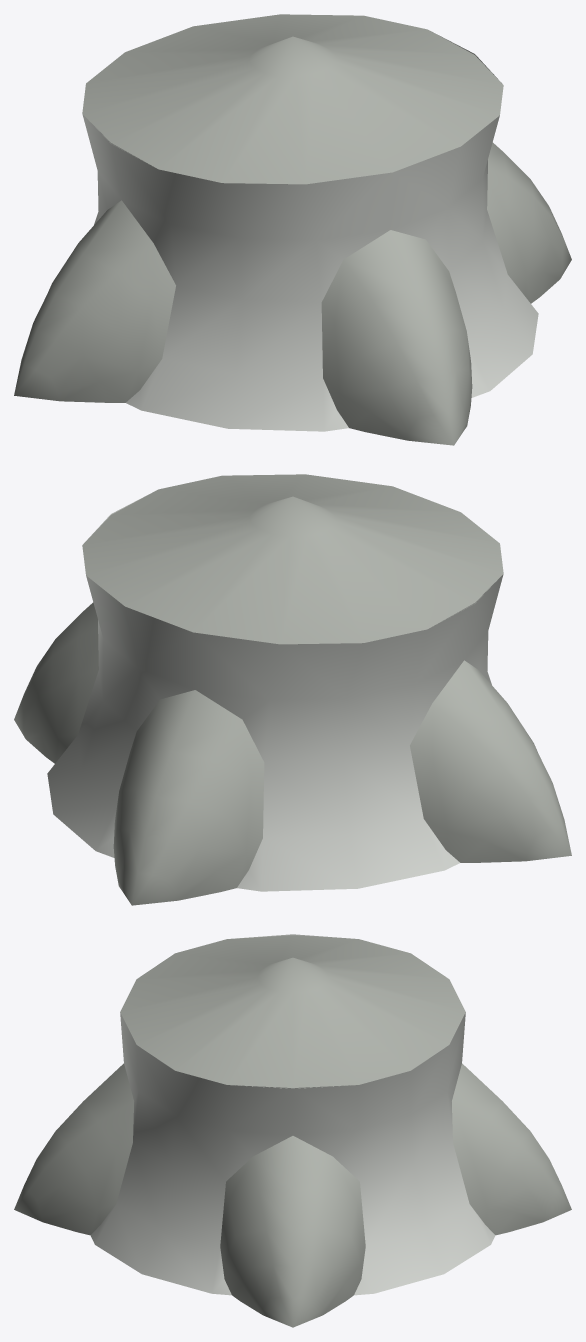
The model's file is ralph_foot.fbx.
3 renders of one model, top to bottom at view 1: azimuth 30°, elevation 25°; view 2: azimuth 150°, elevation 25°; view 3: azimuth 270°, elevation 25°, orthographic. The views are drawn at different scales.
Visible parts, largest first — view 1: 2; view 2: 2; view 3: 2.
Part boxes in pixels (x1,y1,x2,y2): 2: (14, 14, 571, 445); 2: (14, 474, 571, 905); 2: (14, 934, 571, 1327).
Bounding box in the file's own units: 82.9 × 41.34 × 82.9.
